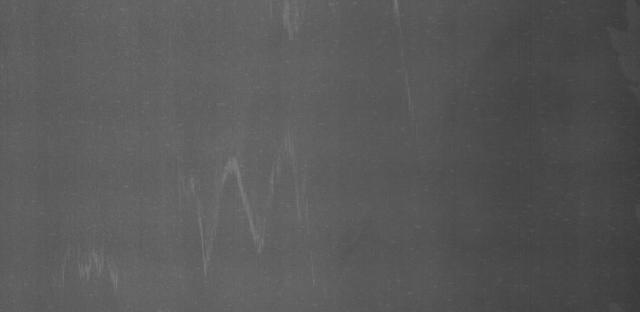silk_spot: (179, 146, 297, 287), (78, 234, 126, 295), (270, 3, 328, 42)
